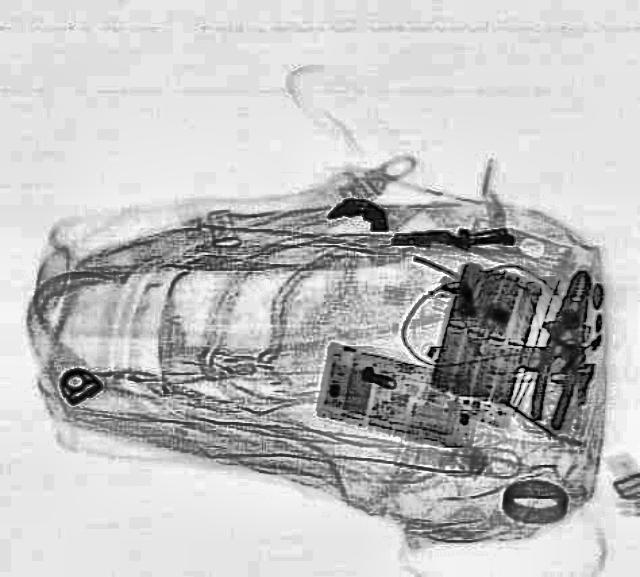Pliers: (522, 265, 604, 431)
